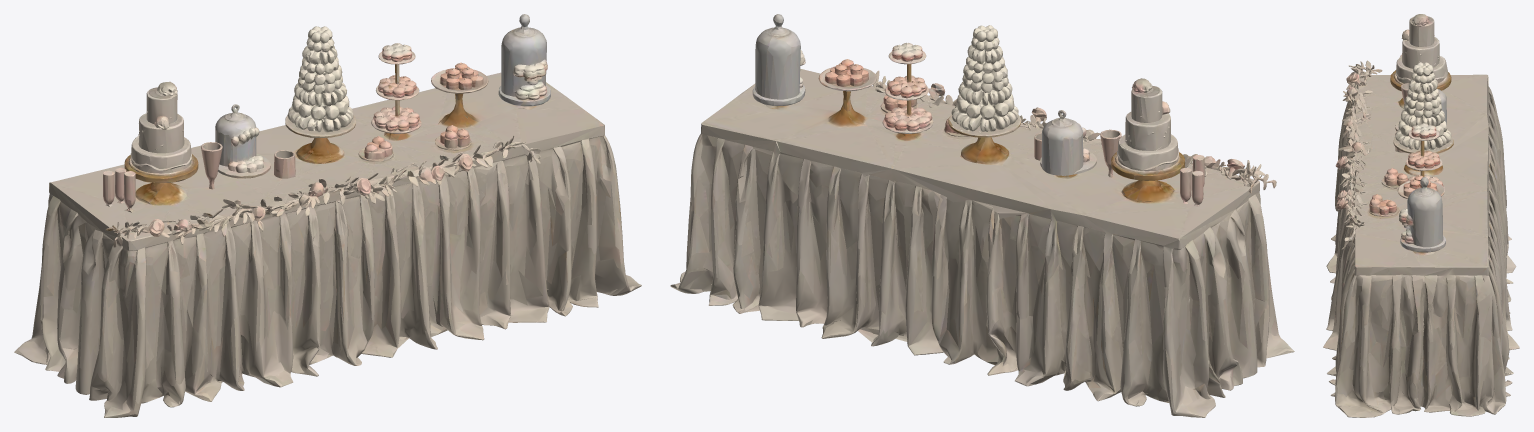
File: dessertTable.glb
3 views of the same model, side by side, from view 1: azimuth 30°, elevation 25°; view 2: azimuth 150°, elevation 25°; view 3: azimuth 270°, elevation 25° (orthographic). The views are drawn at different scales.
Size of the model in its own units: 1.91 by 0.9836 by 0.7267.
Materials: 1 (1 with a texture image).
